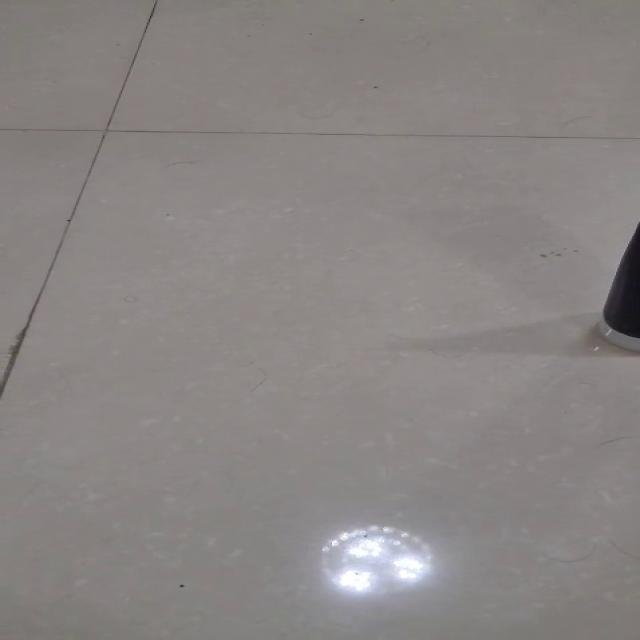plastic: (317, 524, 434, 594)
